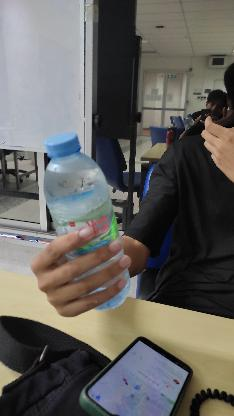Plastic Bottle: (41, 133, 131, 313)
